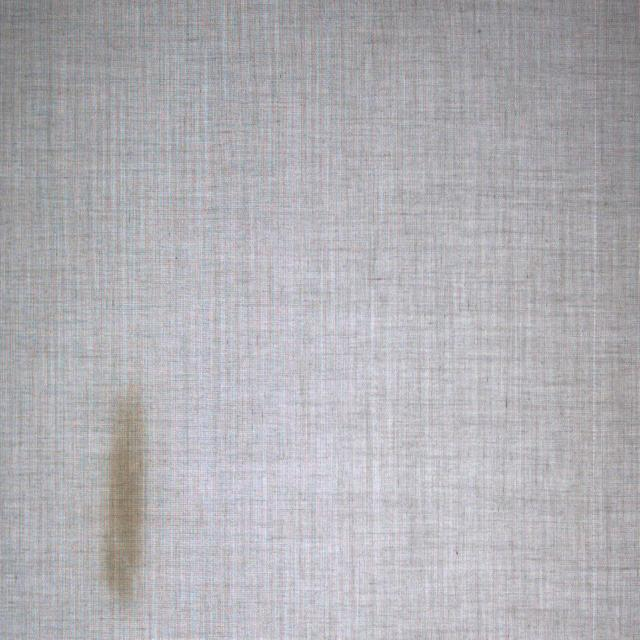dirty: (107, 388, 143, 598)
